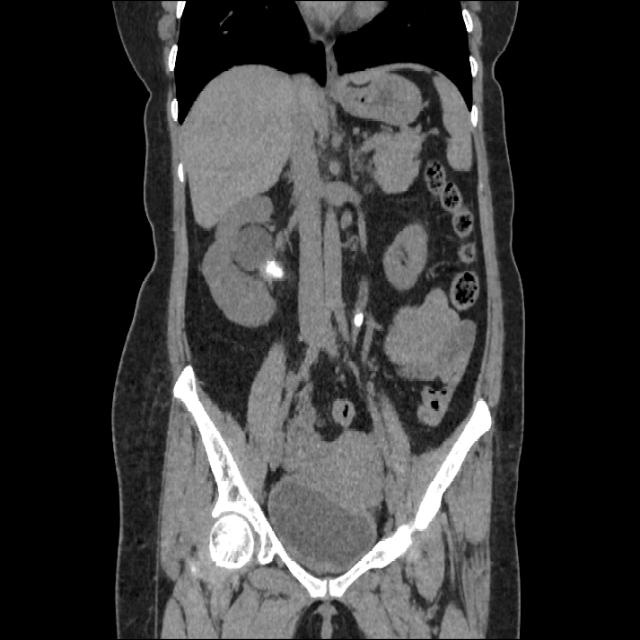kidney: (233, 217, 289, 310)
stone: (268, 262, 281, 276)
